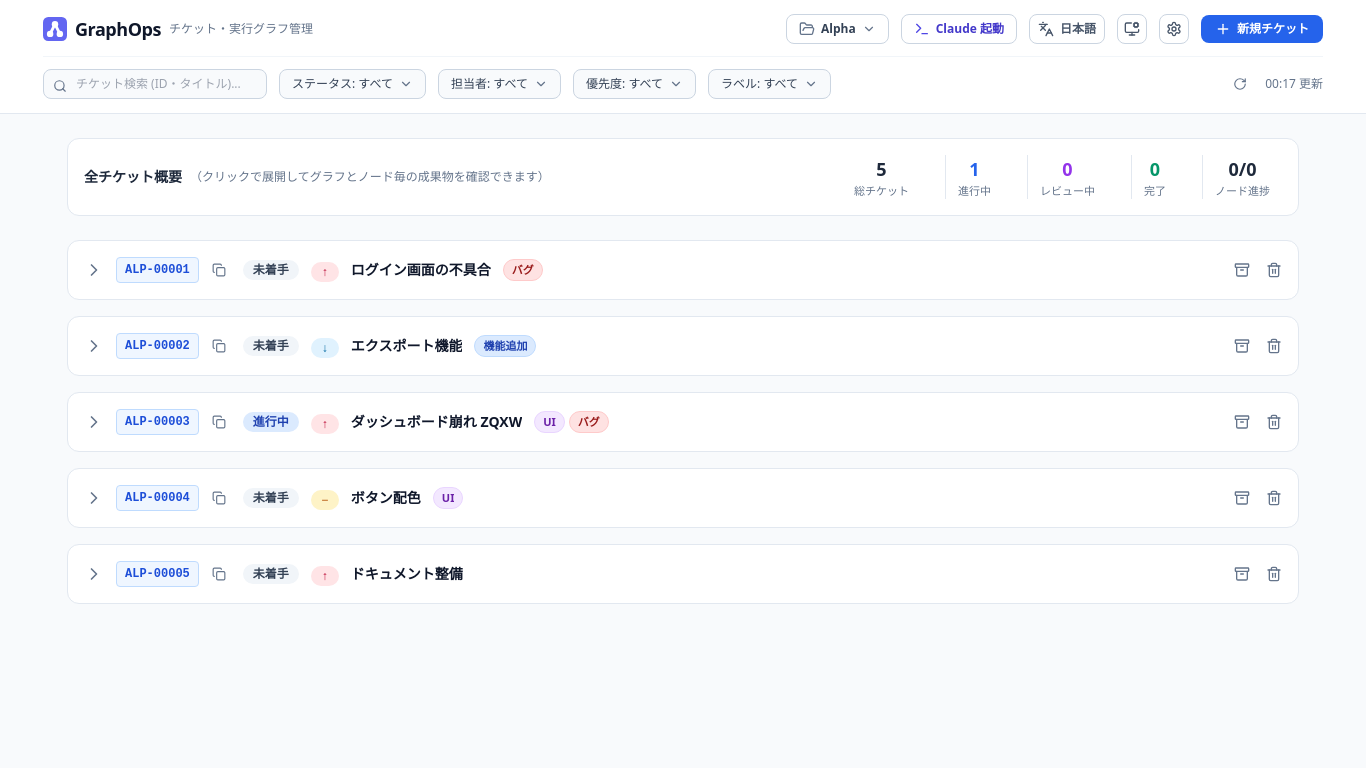
Test: App label filter › narrows to tickets with the selected label, OR across several
Expected: the text "ALP-00001" is shown, x1=116 y1=257 x2=199 y2=283
Click the button "ラベル: すべて" at (770, 84), box x1=708 y1=69 x2=831 y2=99
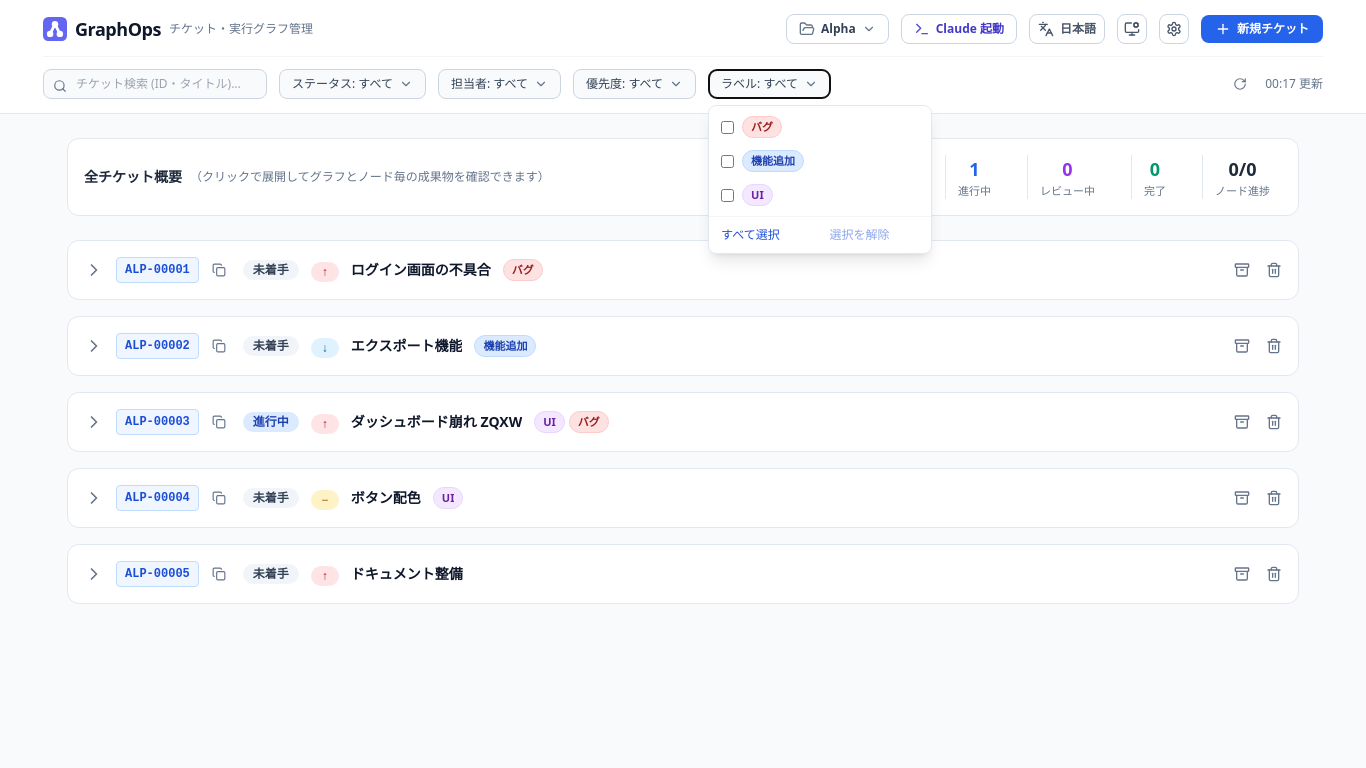
Click the checkbox labelled "バグ" at (728, 127), box x1=721 y1=120 x2=734 y2=134
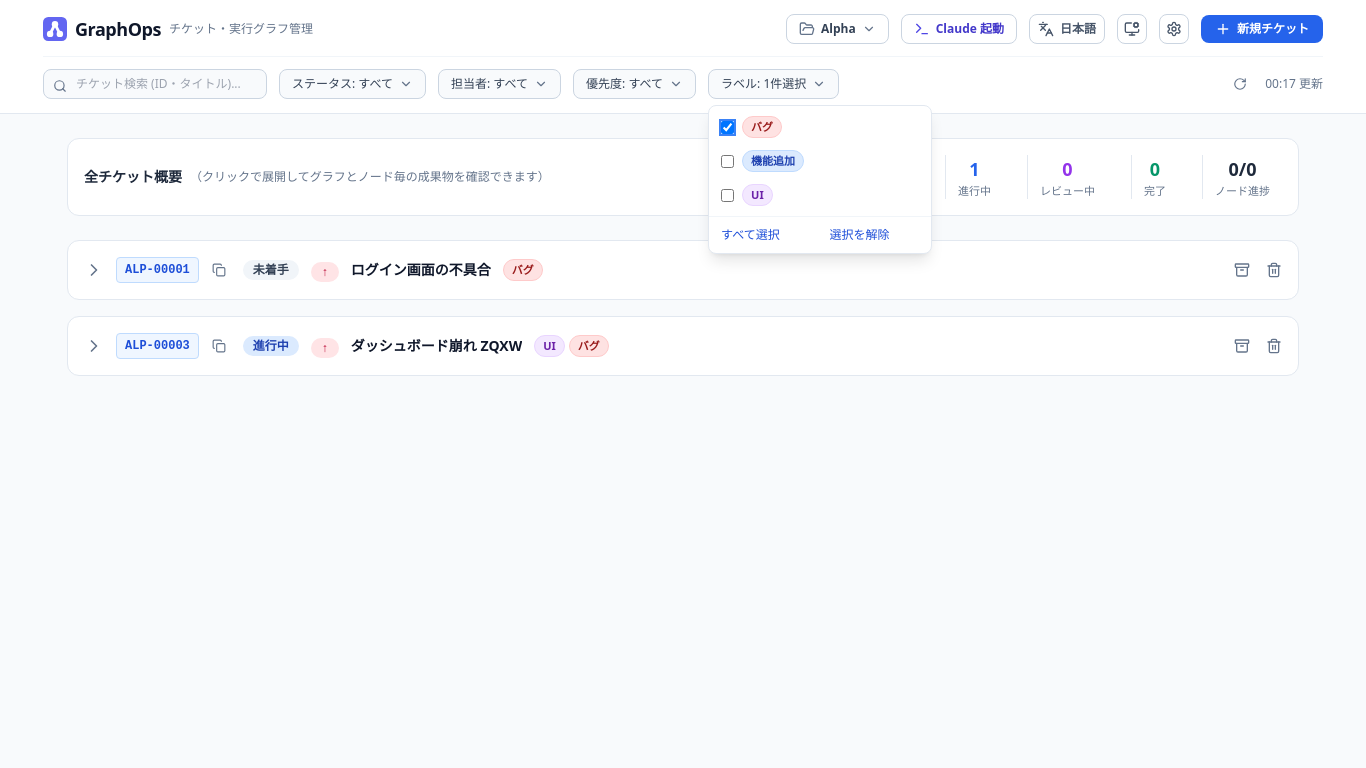
Expected: the text "ALP-00002" is gone
Expected: the text "ALP-00004" is gone
Expected: the text "ALP-00005" is gone
Click the checkbox labelled "機能追加" at (728, 161), box x1=721 y1=154 x2=734 y2=168
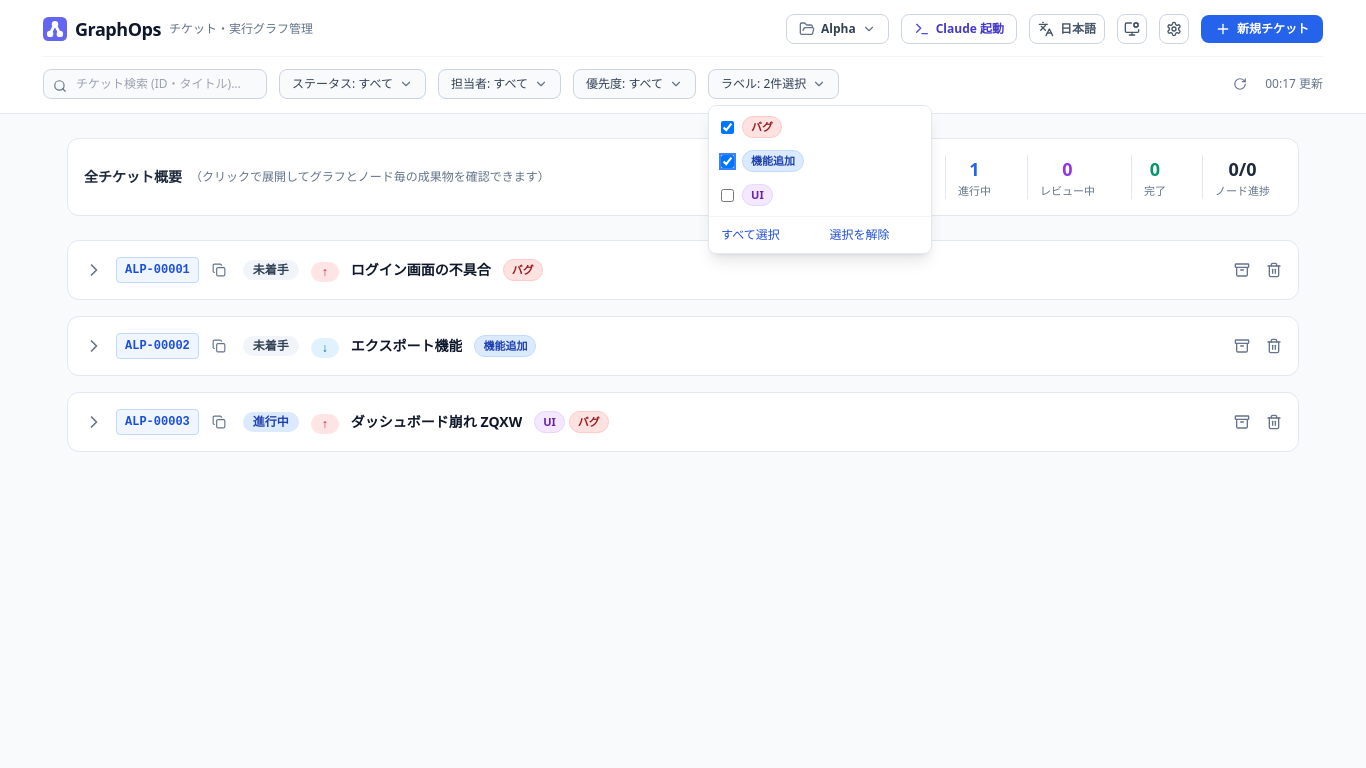
Expected: the text "ALP-00001" is shown, x1=116 y1=257 x2=199 y2=283
Expected: the text "ALP-00002" is shown, x1=116 y1=333 x2=199 y2=359
Click the checkbox labelled "機能追加" at (728, 161), box x1=721 y1=154 x2=734 y2=168
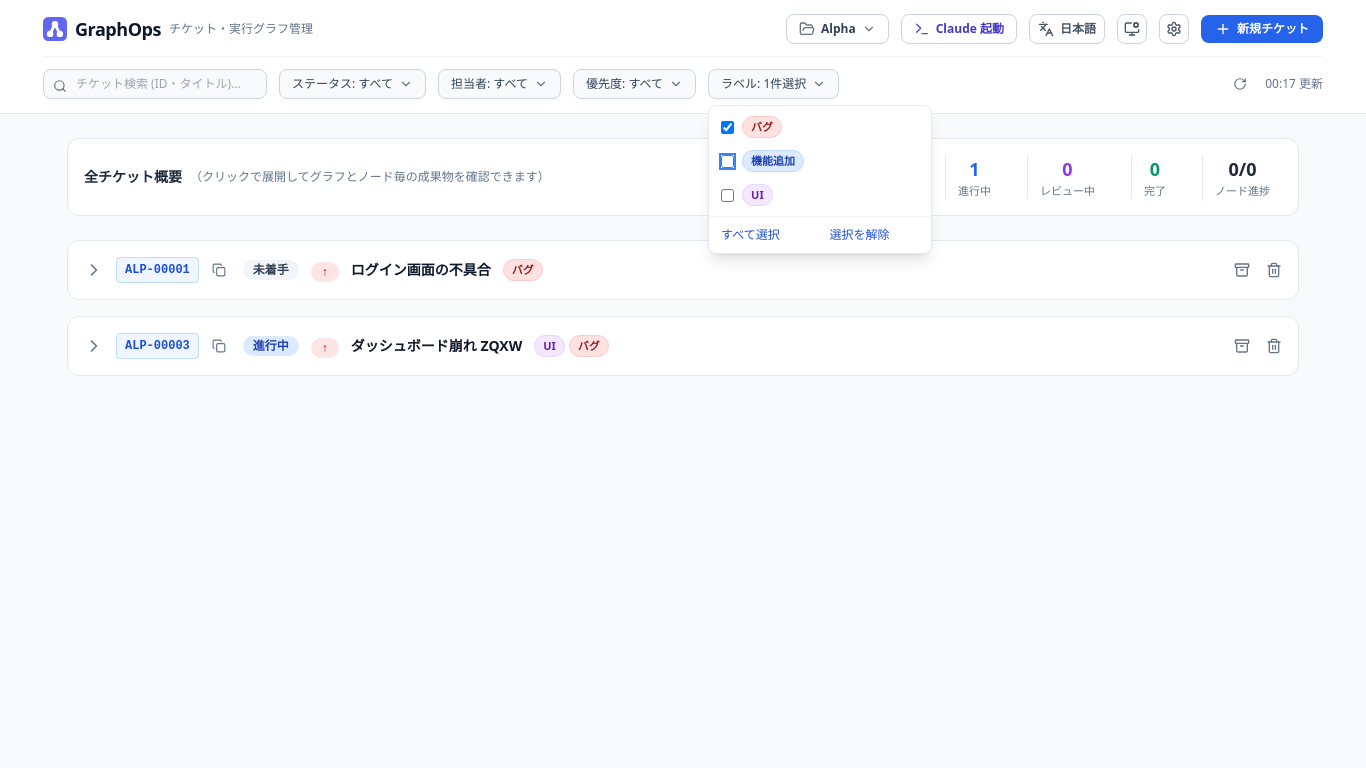
Expected: the text "ALP-00001" is shown, x1=116 y1=257 x2=199 y2=283
Expected: the text "ALP-00002" is gone
